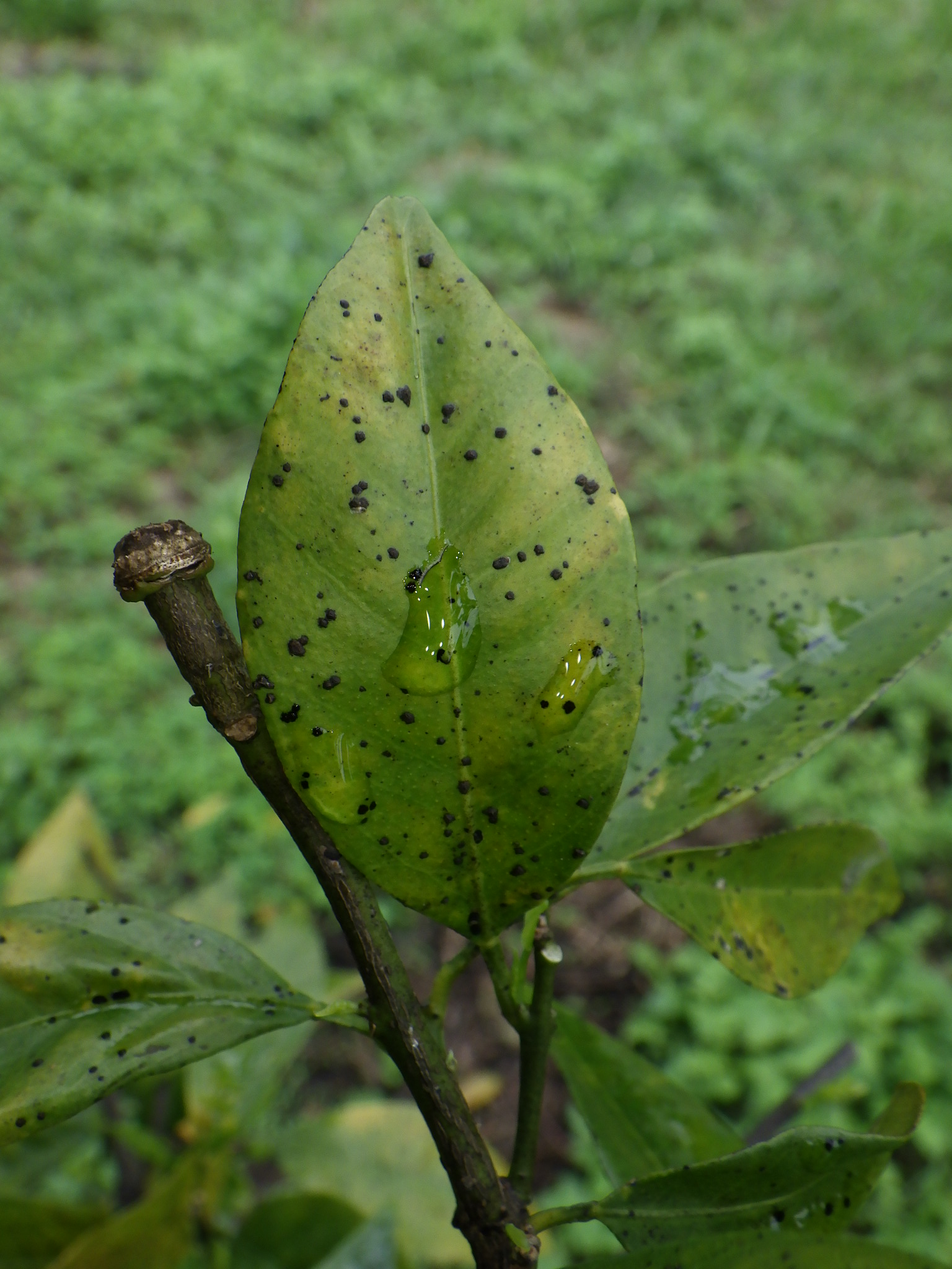Oily_Spot: (237, 199, 641, 943)
